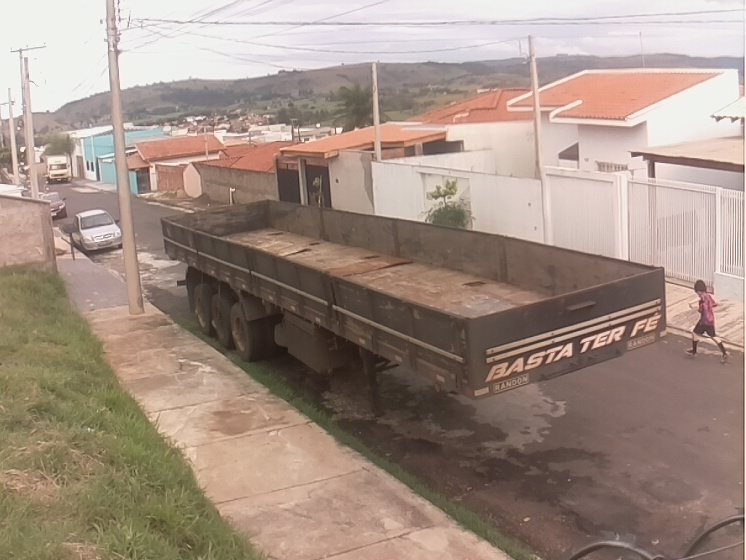person: (686, 277, 730, 364)
